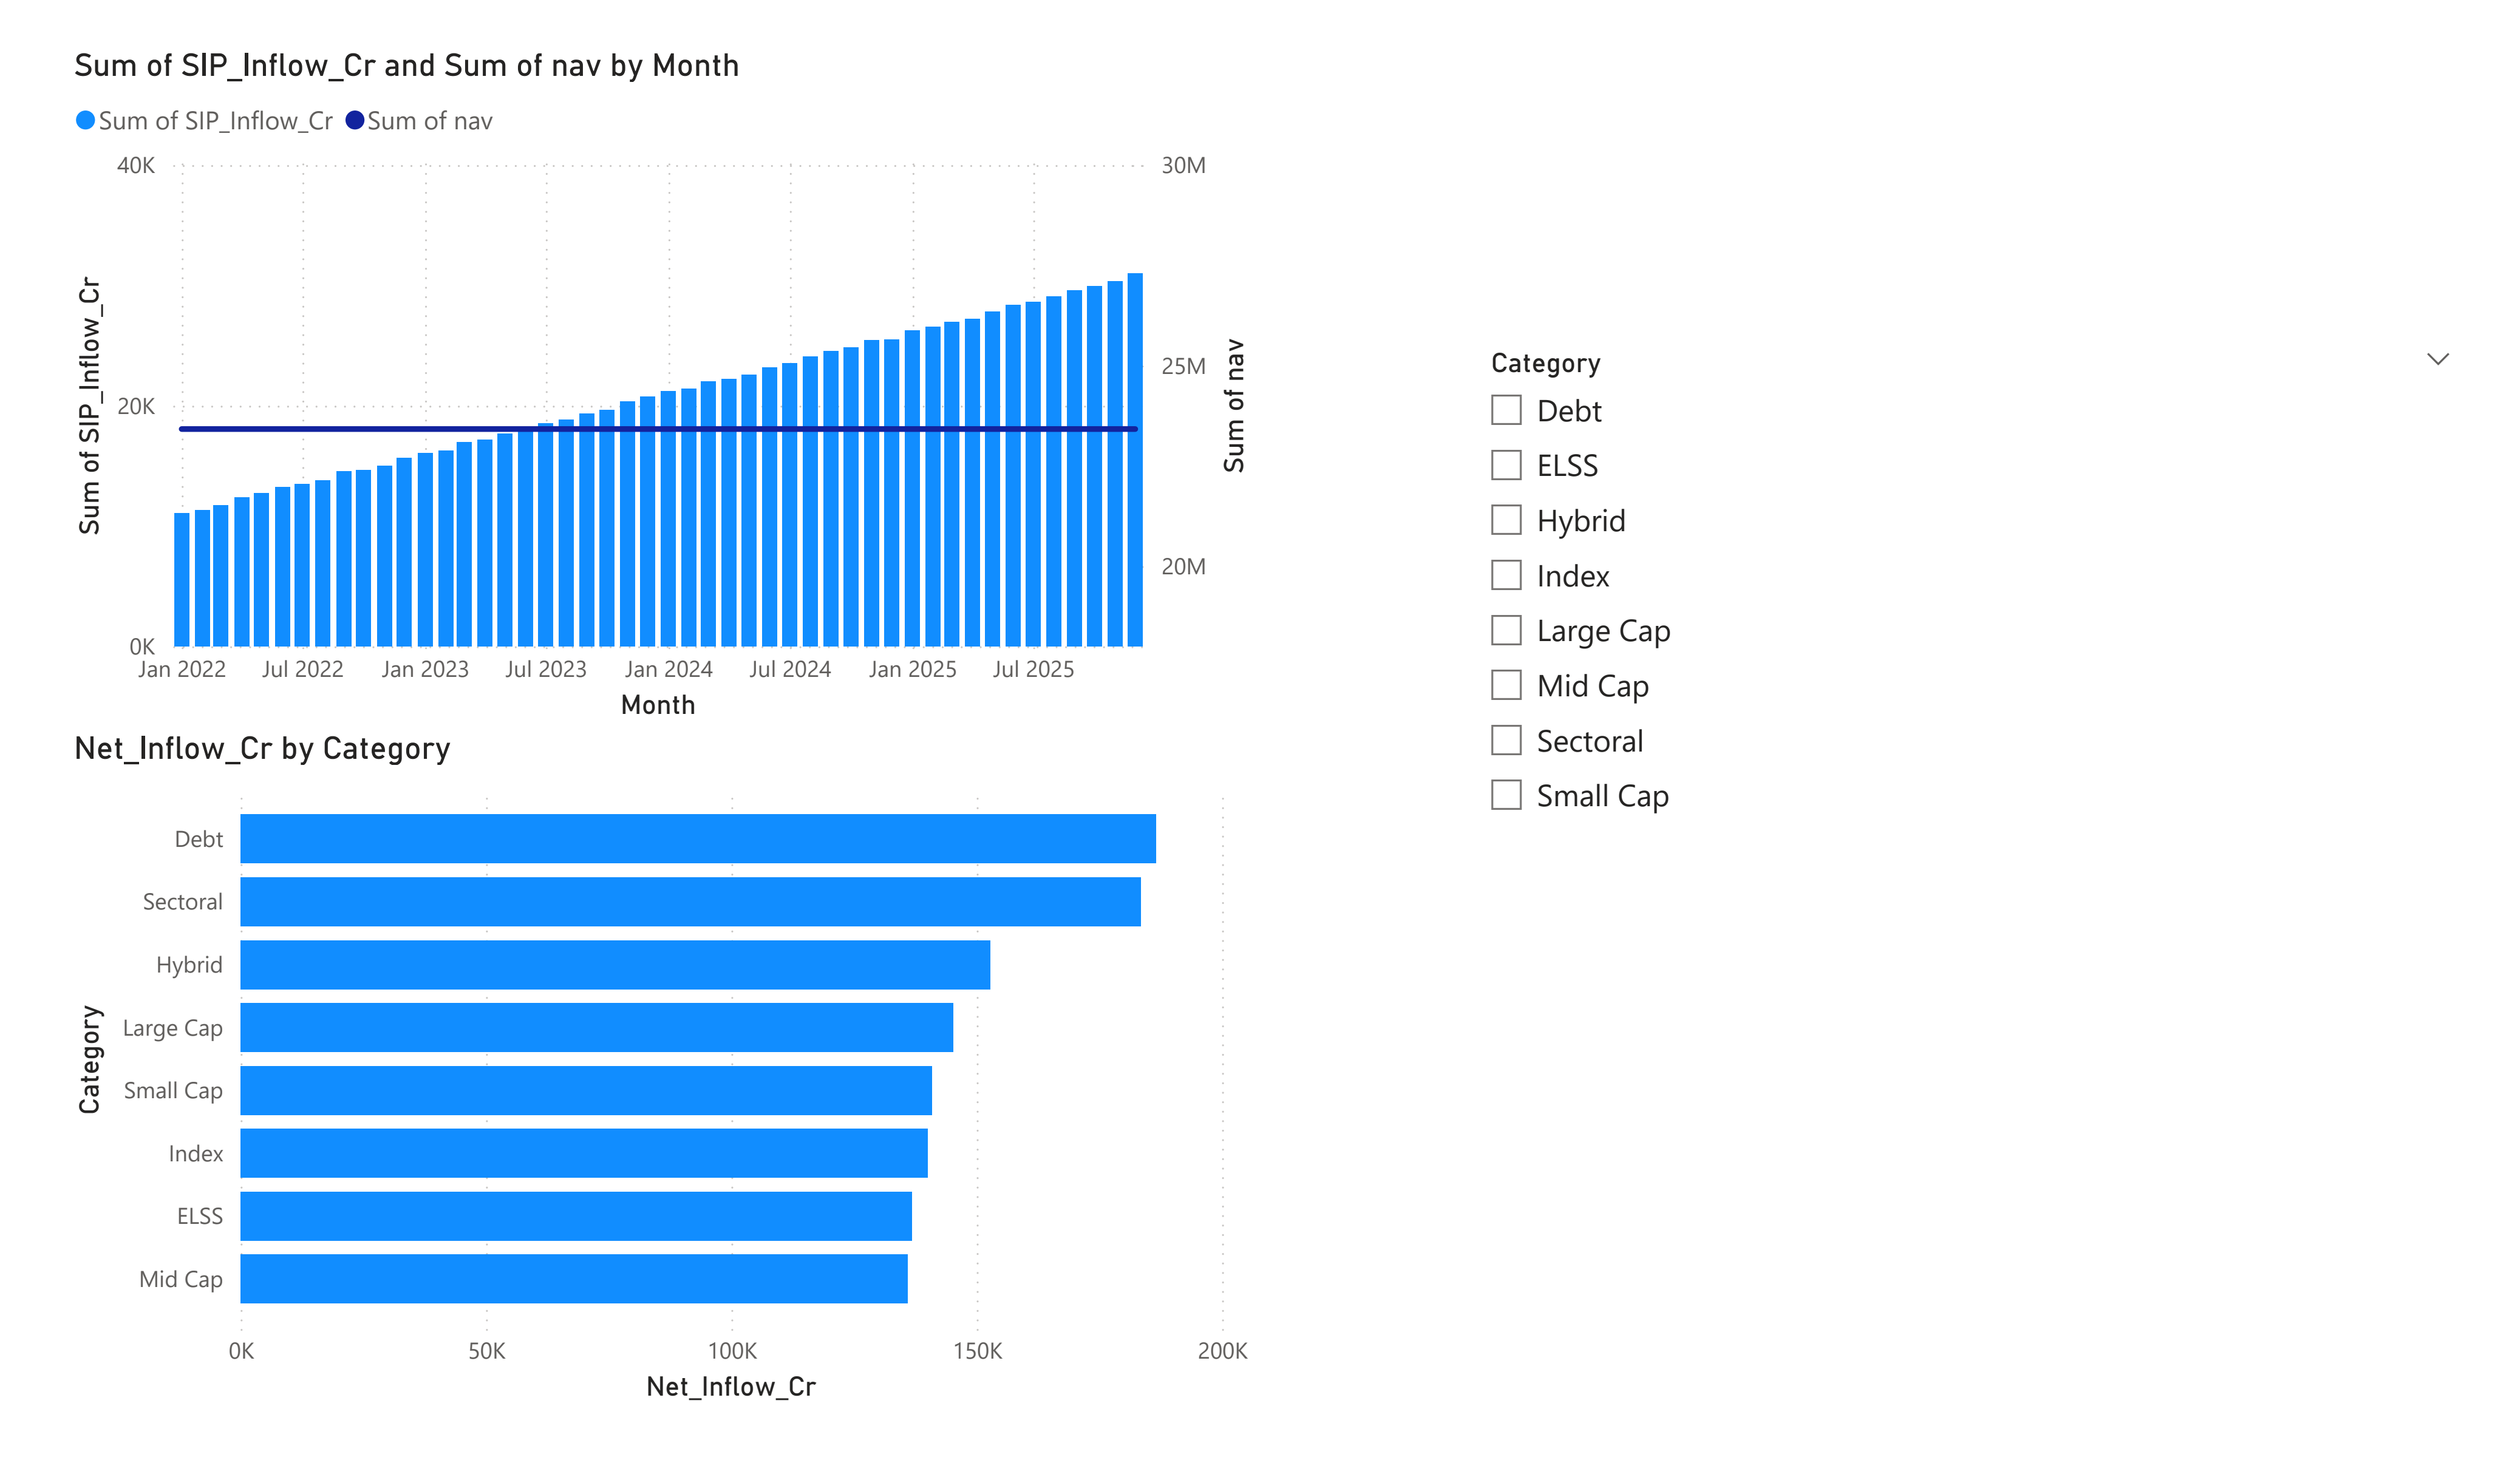

This screenshot's page, from the dashboard's own definition file:
{"tool":"powerbi","page":{"name":"SIP&Market trends ","canvas":[1280,720],"ordinal":3},"visuals":[{"type":"lineClusteredColumnComboChart","fields":{"Category":["sip_inflows.Month"],"Y":["Sum(sip_inflows.SIP_Inflow_Cr)"],"Y2":["Sum(nav_history_clean.nav)"]},"box":[9.6,0,629.8,359.5],"z":0},{"type":"clusteredBarChart","fields":{"Category":["category_inflows.Category"],"Y":["Sum(category_inflows.Net_Inflow_Cr)"]},"box":[9.6,359.5,629.8,360.9],"z":1},{"type":"slicer","fields":{"Values":["category_inflows.Category"]},"box":[749.2,153.7,531,311.5],"z":2}]}

Visuals, with their boxes on the page's 1280x720 design canvas (x1, y1, x2, y2). These are canvas units, not pixel positions in the 2520x1457 screenshot, which may show the page scaled, cropped or inside an application window:
lineClusteredColumnComboChart - sip_inflows.Month x Sum(sip_inflows.SIP_Inflow_Cr): region(10, 0, 639, 360)
clusteredBarChart - category_inflows.Category x Sum(category_inflows.Net_Inflow_Cr): region(10, 360, 639, 720)
slicer - category_inflows.Category: region(749, 154, 1280, 465)
